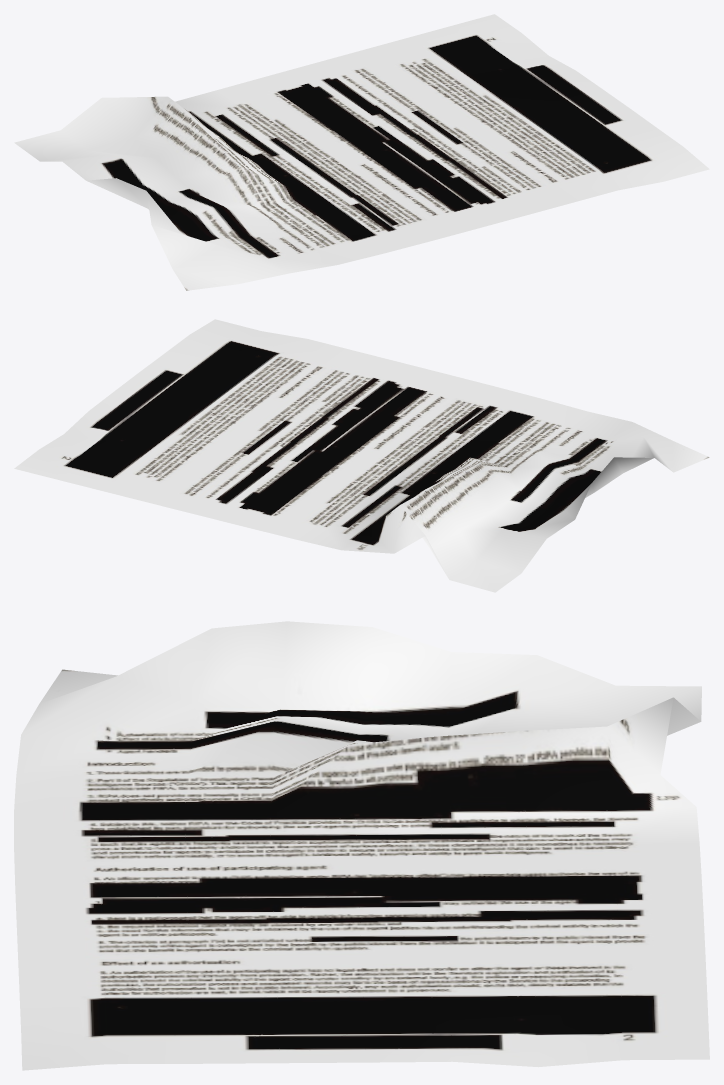
Rendered from SM_prop_Laboratory_Paper_Fold_02.fbx.
3 renders of one model, top to bottom at view 1: azimuth 30°, elevation 25°; view 2: azimuth 150°, elevation 25°; view 3: azimuth 270°, elevation 25°, orthographic. The views are drawn at different scales.
Parts seen in each view (by area): view 1: SM_prop_Laboratory_Paper_Fold_02; view 2: SM_prop_Laboratory_Paper_Fold_02; view 3: SM_prop_Laboratory_Paper_Fold_02.
Part boxes in pixels (x1,y1,x2,y2): SM_prop_Laboratory_Paper_Fold_02: (14, 14, 709, 290); SM_prop_Laboratory_Paper_Fold_02: (14, 319, 709, 592); SM_prop_Laboratory_Paper_Fold_02: (14, 621, 709, 1070).
Bounding box in the file's own units: 39.05 × 3.15 × 27.98.
Materials: 1 (1 with a texture image).
